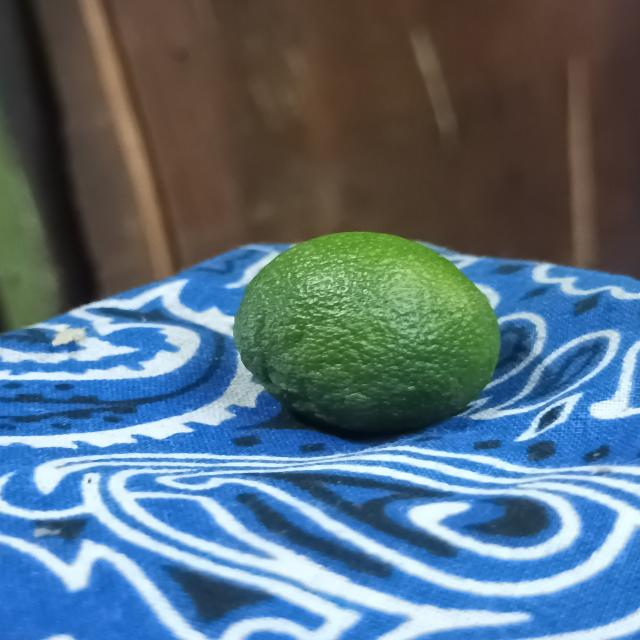heathy: (231, 233, 513, 442)
